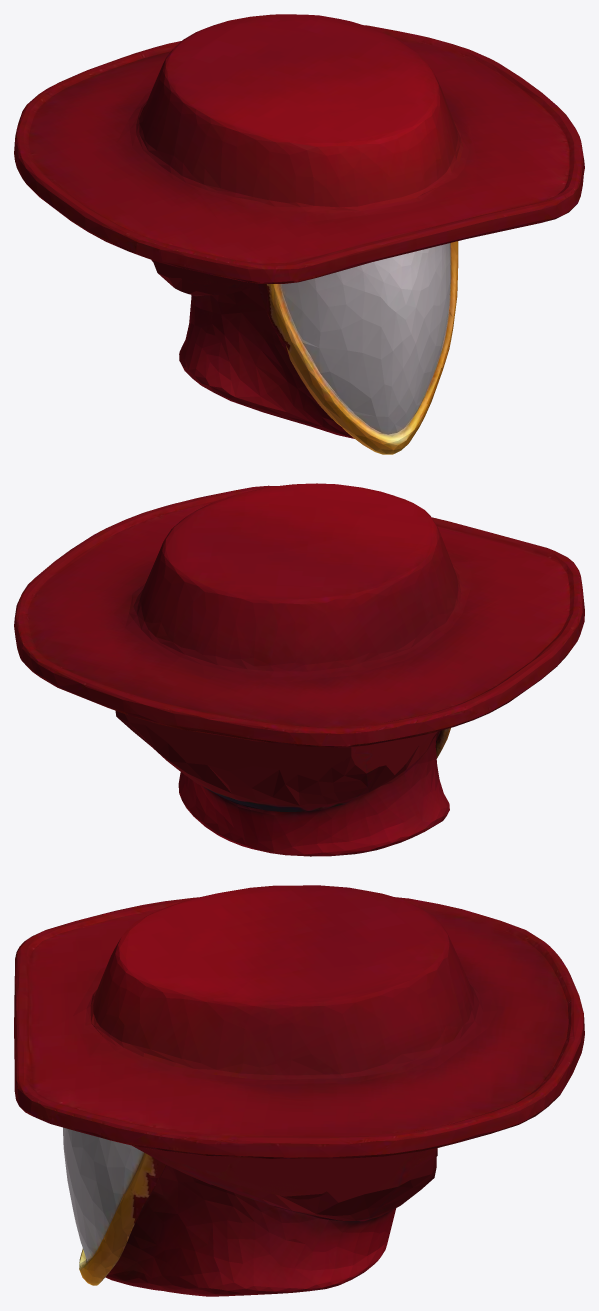
File: dsa_deadeye_helm.glb
3 renders of one model, top to bottom at view 1: azimuth 30°, elevation 25°; view 2: azimuth 150°, elevation 25°; view 3: azimuth 270°, elevation 25°, orthographic. The views are drawn at different scales.
Parts seen in each view (by area): view 1: tmpcywvk82g.ply; view 2: tmpcywvk82g.ply; view 3: tmpcywvk82g.ply.
Boxes of the visible parts, x1,y1,x2,y2 form: tmpcywvk82g.ply: (14, 14, 584, 454); tmpcywvk82g.ply: (14, 483, 584, 856); tmpcywvk82g.ply: (14, 885, 584, 1296).
Bounding box in the file's own units: 2 × 1.27 × 1.91.
Materials: 1 (1 with a texture image).
